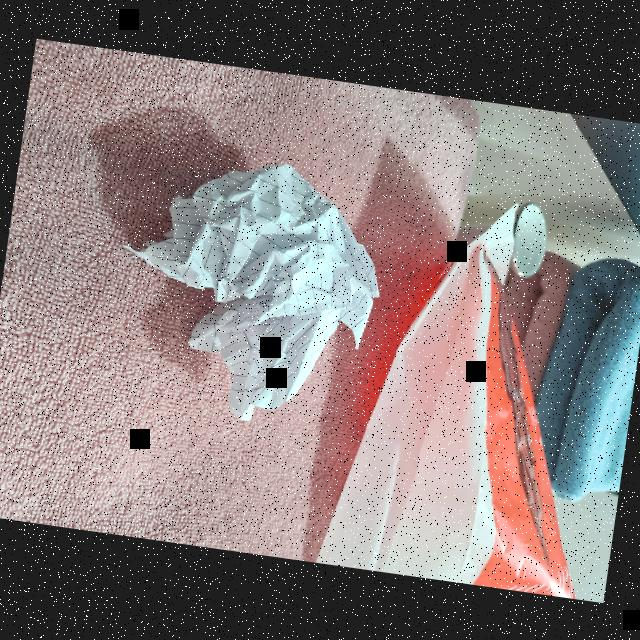scrap_paper: (131, 144, 395, 430)
